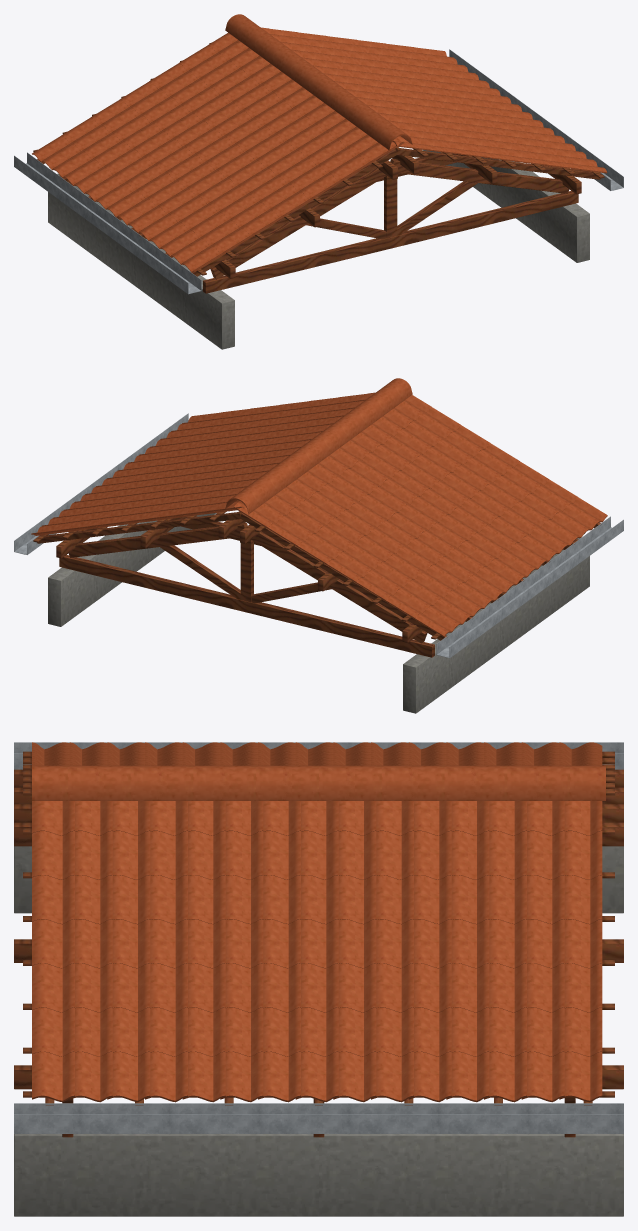
Rendered from KIT-COB-01_lod1.glb.
The picture shows the model from 3 angles, top to bottom: view 1: azimuth 30°, elevation 25°; view 2: azimuth 150°, elevation 25°; view 3: azimuth 270°, elevation 25°; orthographic projection. The views are drawn at different scales.
Parts seen in each view (by area): view 1: KIT-COB-01_apoio-1, KIT-COB-01_linha0, KIT-COB-01_calha-1, KIT-COB-01_apoio1, KIT-COB-01_perna0-1, KIT-COB-01_perna01, KIT-COB-01_calha1, KIT-COB-01_caibro01, KIT-COB-01_caibro0-1, KIT-COB-01_escora01, KIT-COB-01_pendural0, KIT-COB-01_escora0-1 (+27 smaller); view 2: KIT-COB-01_apoio-1, KIT-COB-01_linha2, KIT-COB-01_calha-1, KIT-COB-01_apoio1, KIT-COB-01_perna2-1, KIT-COB-01_perna21, KIT-COB-01_calha1, KIT-COB-01_caibro61, KIT-COB-01_caibro6-1, KIT-COB-01_escora21, KIT-COB-01_pendural2, KIT-COB-01_escora2-1 (+16 smaller); view 3: KIT-COB-01_apoio1, KIT-COB-01_calha1, KIT-COB-01_apoio-1, KIT-COB-01_p210, KIT-COB-01_calha-1, KIT-COB-01_p212, KIT-COB-01_p211, KIT-COB-01_p217, KIT-COB-01_p216, KIT-COB-01_p214, KIT-COB-01_p218, KIT-COB-01_p215 (+110 smaller).
Boxes of the visible parts, box(x1,y1,x2,y2) form: KIT-COB-01_apoio-1: box(48, 173, 234, 349); KIT-COB-01_linha0: box(203, 190, 578, 293); KIT-COB-01_calha-1: box(14, 152, 201, 294); KIT-COB-01_apoio1: box(422, 149, 589, 262); KIT-COB-01_perna0-1: box(210, 167, 386, 279); KIT-COB-01_perna01: box(390, 159, 569, 193); KIT-COB-01_calha1: box(449, 49, 623, 190); KIT-COB-01_caibro01: box(395, 147, 600, 179); KIT-COB-01_caibro0-1: box(190, 149, 397, 276); KIT-COB-01_escora01: box(397, 181, 477, 235); KIT-COB-01_pendural0: box(384, 176, 397, 238); KIT-COB-01_escora0-1: box(306, 218, 386, 239); KIT-COB-01_apoio-1: box(403, 538, 589, 713); KIT-COB-01_linha2: box(59, 554, 434, 657); KIT-COB-01_calha-1: box(436, 516, 623, 658); KIT-COB-01_apoio1: box(48, 513, 216, 626); KIT-COB-01_perna2-1: box(251, 531, 427, 643); KIT-COB-01_perna21: box(68, 523, 247, 557); KIT-COB-01_calha1: box(14, 413, 188, 554); KIT-COB-01_caibro61: box(37, 512, 242, 543); KIT-COB-01_caibro6-1: box(240, 513, 447, 640); KIT-COB-01_escora21: box(160, 545, 240, 599); KIT-COB-01_pendural2: box(240, 540, 253, 602); KIT-COB-01_escora2-1: box(251, 582, 331, 603); KIT-COB-01_apoio1: box(14, 1134, 623, 1216); KIT-COB-01_calha1: box(14, 1103, 623, 1133); KIT-COB-01_apoio-1: box(14, 846, 623, 913); KIT-COB-01_p210: box(32, 765, 103, 800); KIT-COB-01_calha-1: box(14, 742, 623, 769); KIT-COB-01_p212: box(157, 765, 229, 800); KIT-COB-01_p211: box(94, 765, 166, 800); KIT-COB-01_p217: box(471, 765, 543, 800); KIT-COB-01_p216: box(408, 765, 480, 800); KIT-COB-01_p214: box(283, 765, 354, 800); KIT-COB-01_p218: box(534, 765, 605, 800); KIT-COB-01_p215: box(346, 765, 417, 800).
Size of the model in its own units: 4.91 by 1.79 by 3.4.
Materials: 4 (4 with a texture image).
